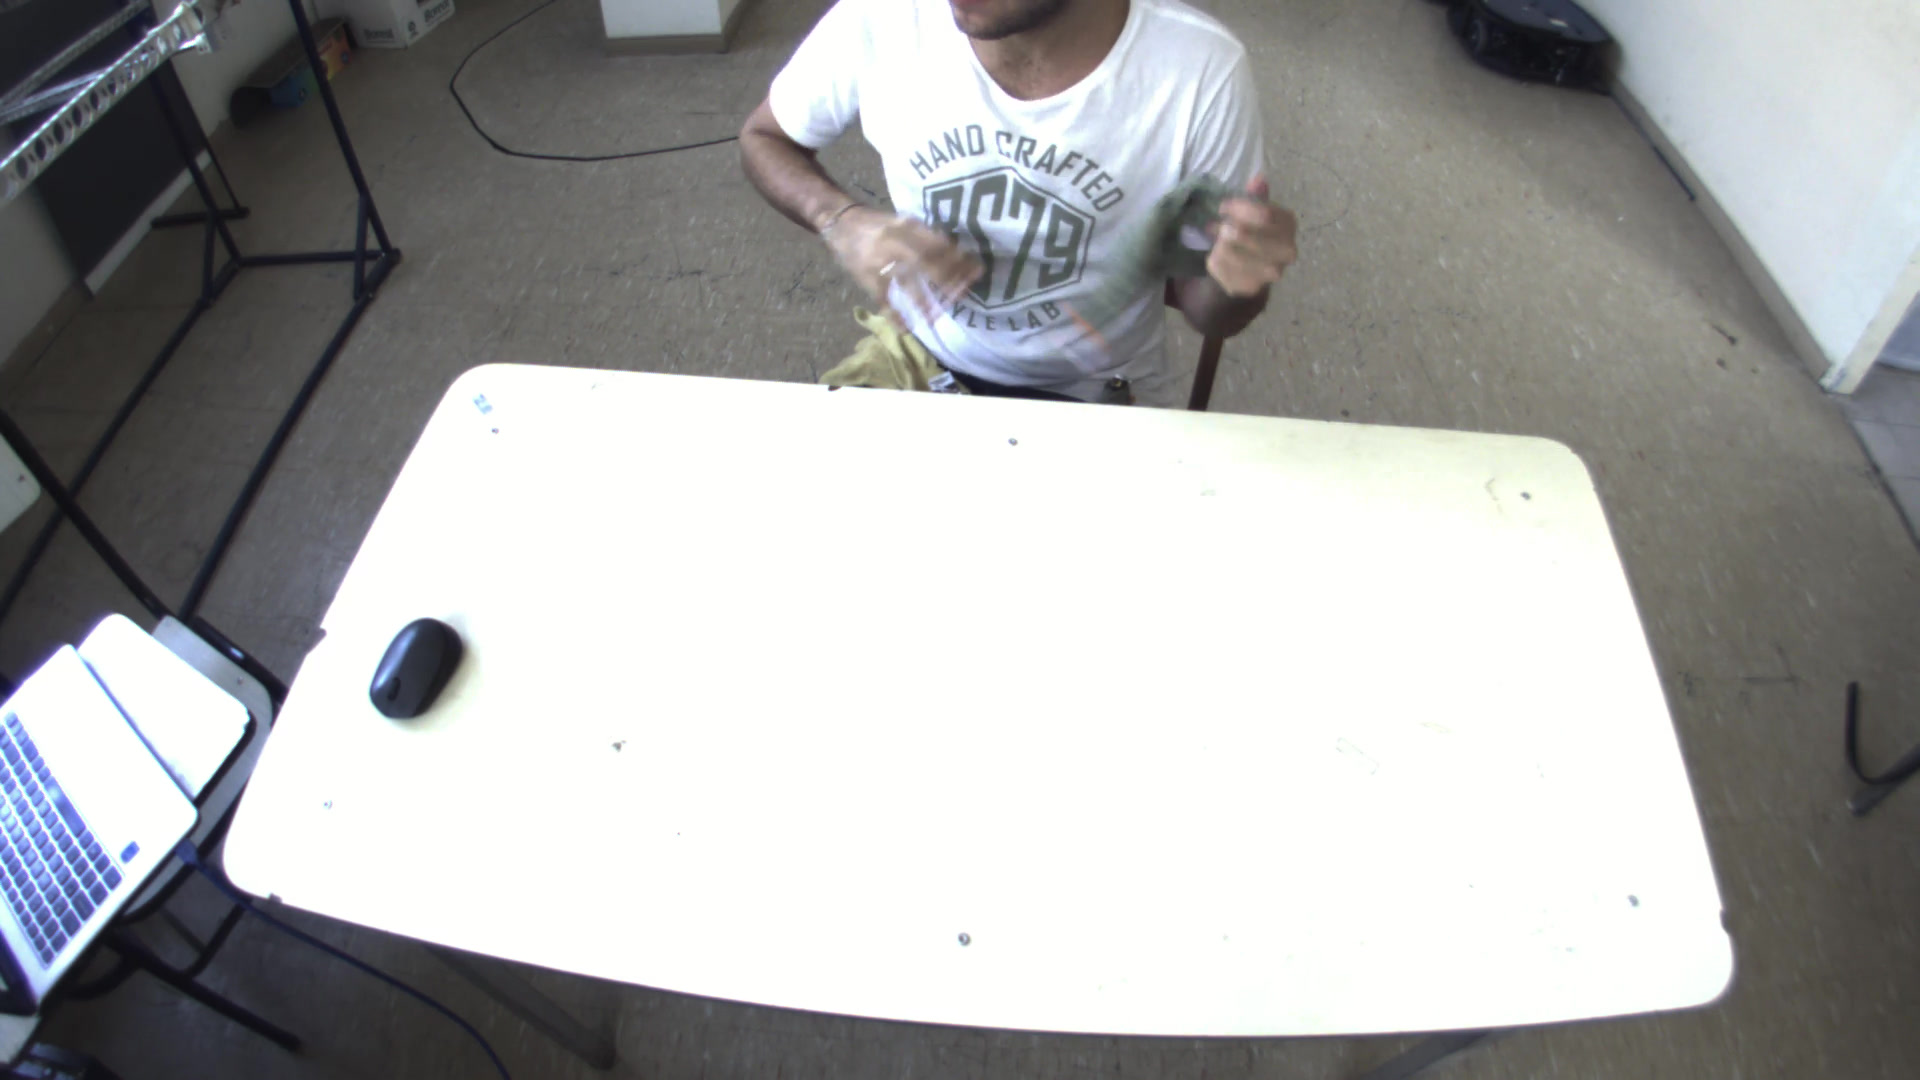hand: (808, 196, 1000, 302), (1195, 167, 1313, 303)
